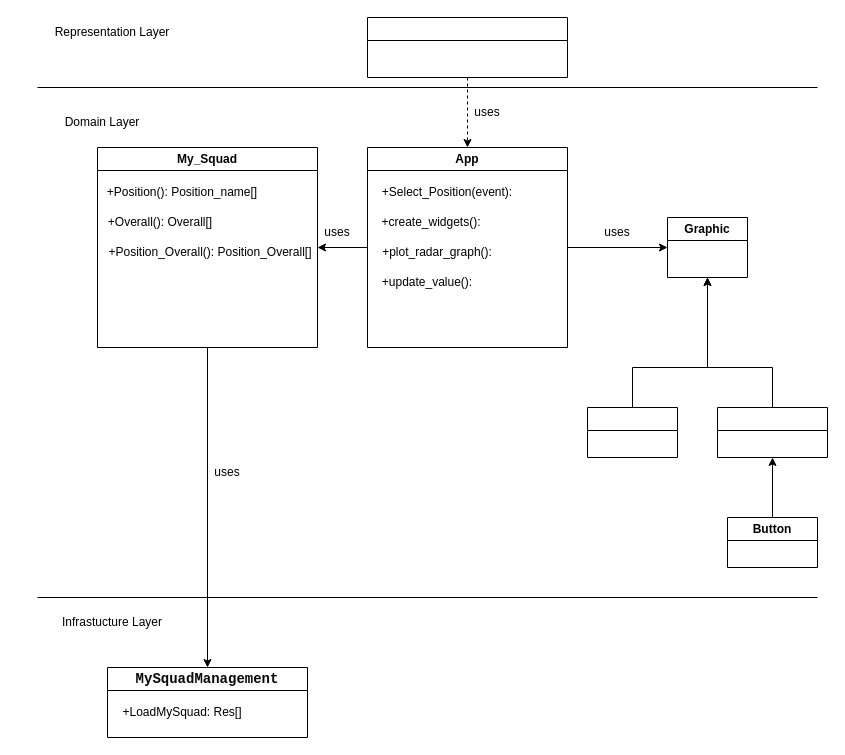
Some shapes in this 845 by 755 pixel diagram are drawn without their labels. Here are the shapes that lost their labels. From the top down, the centre of each, then its label:
pixel 467 47: Console
pixel 632 432: MyGUI
pixel 772 432: GUIElement
